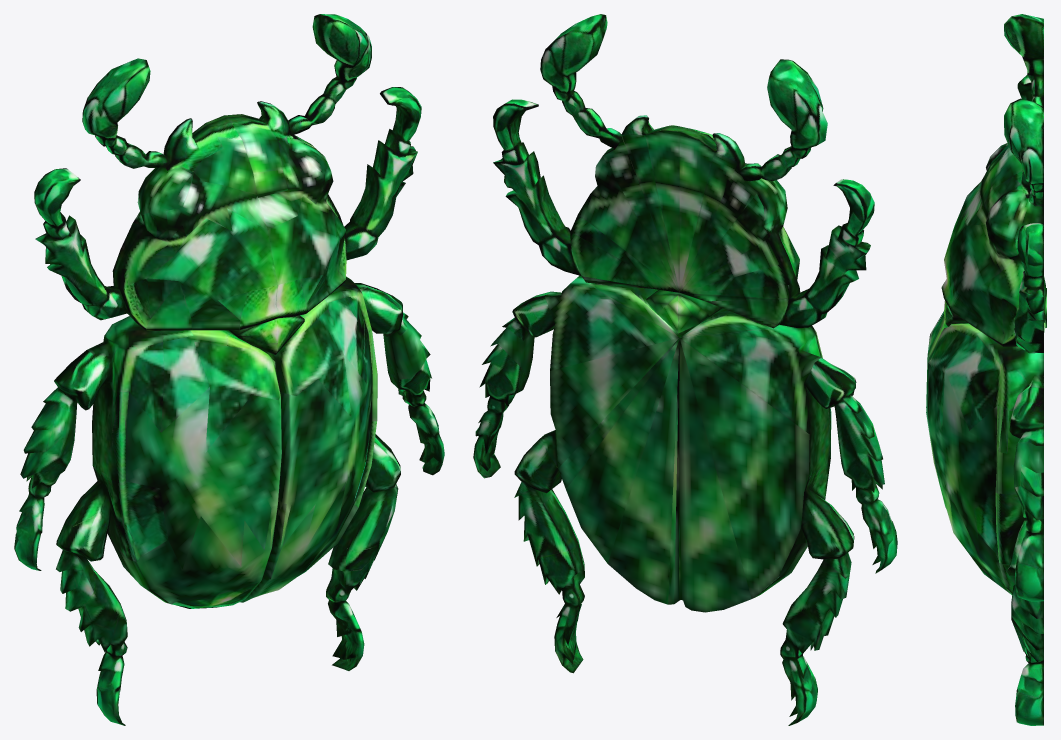
File: escaravelho.glb
The picture shows the model from 3 angles, left to right: view 1: azimuth 30°, elevation 25°; view 2: azimuth 150°, elevation 25°; view 3: azimuth 270°, elevation 25°; orthographic projection. The views are drawn at different scales.
Visible parts, largest first — view 1: geometry_0; view 2: geometry_0; view 3: geometry_0.
Boxes of the visible parts, x1,y1,x2,y2 form: geometry_0: (14, 14, 444, 725); geometry_0: (473, 14, 897, 725); geometry_0: (926, 14, 1046, 725).
Bounding box in the file's own units: 0.6357 × 0.9531 × 0.1689.
1 material, 1 textured.
